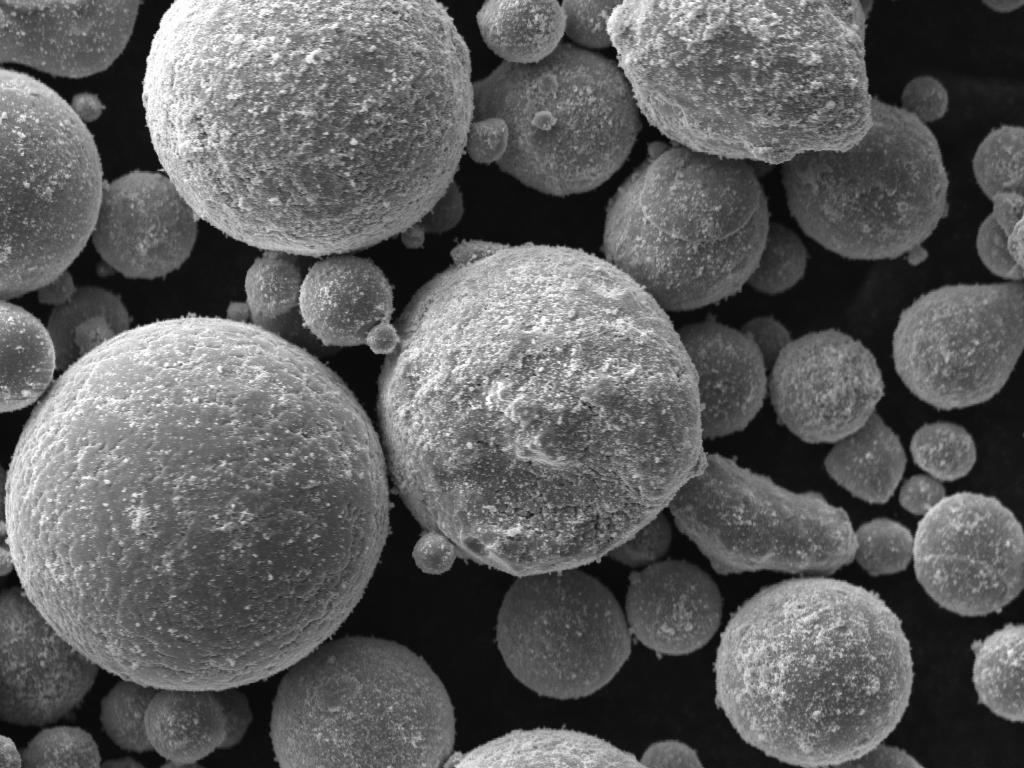Powder: (6, 304, 390, 690), (378, 242, 706, 576), (142, 0, 474, 257), (606, 0, 872, 164), (716, 578, 912, 766), (602, 142, 768, 310), (782, 100, 948, 266), (466, 42, 642, 195), (270, 636, 454, 767), (0, 68, 104, 299), (670, 454, 858, 574), (496, 570, 630, 699), (892, 282, 1024, 410), (914, 492, 1024, 616), (0, 588, 98, 726), (768, 330, 884, 443), (92, 170, 198, 279), (0, 0, 139, 77), (680, 316, 766, 437), (444, 728, 702, 768), (244, 252, 338, 357), (300, 254, 398, 354), (626, 560, 722, 655), (38, 272, 130, 369), (824, 412, 906, 504), (0, 302, 56, 411), (146, 690, 226, 763), (476, 0, 566, 63), (972, 624, 1024, 722), (748, 222, 808, 294), (978, 192, 1024, 280), (910, 422, 976, 482), (102, 680, 156, 751), (972, 126, 1024, 198), (608, 514, 672, 568), (856, 518, 914, 576), (22, 726, 100, 768), (562, 0, 622, 49), (742, 316, 792, 371), (216, 690, 252, 749), (902, 76, 948, 122), (838, 744, 924, 767), (898, 474, 946, 515), (0, 734, 22, 767), (982, 1, 1024, 13), (0, 544, 14, 577)
